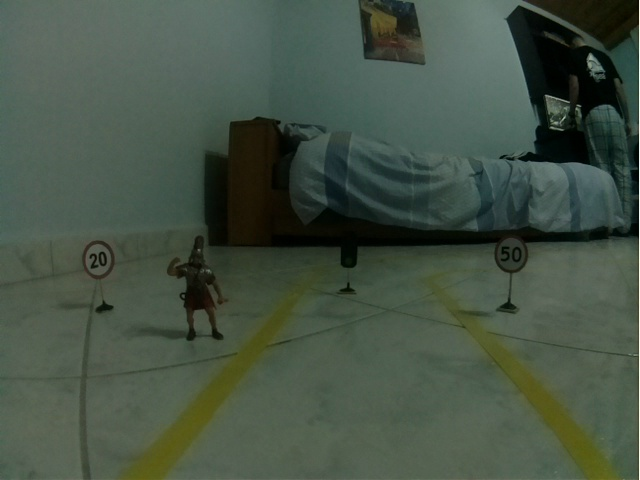Green Traffic Light: (340, 226, 357, 268)
Person: (166, 235, 228, 341)
Speed Limit 20: (82, 240, 115, 280)
Speed Limit 50: (494, 235, 528, 274)
